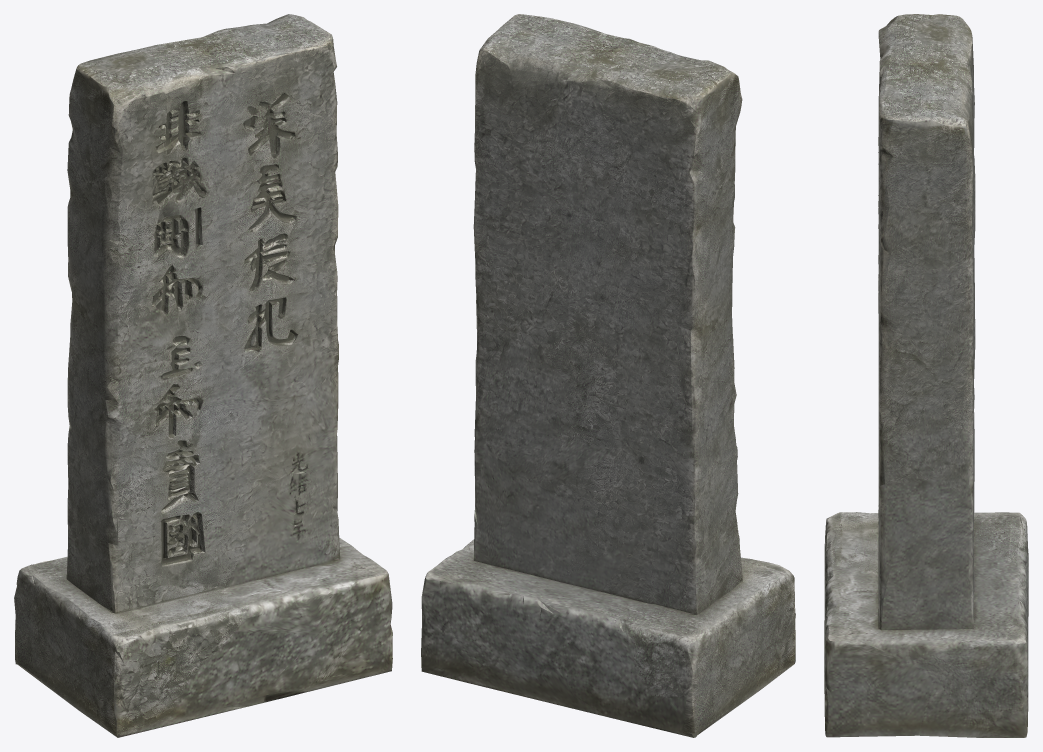
File: cheokhwabi.glb
The picture shows the model from 3 angles, left to right: view 1: azimuth 30°, elevation 25°; view 2: azimuth 150°, elevation 25°; view 3: azimuth 270°, elevation 25°; orthographic projection. The views are drawn at different scales.
Size of the model in its own units: 0.8941 by 1.9 by 0.5804.
Materials: 1 (1 with a texture image).
